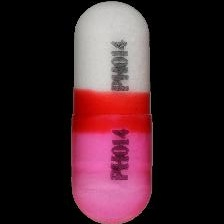21695-304: (0, 0, 224, 224)
